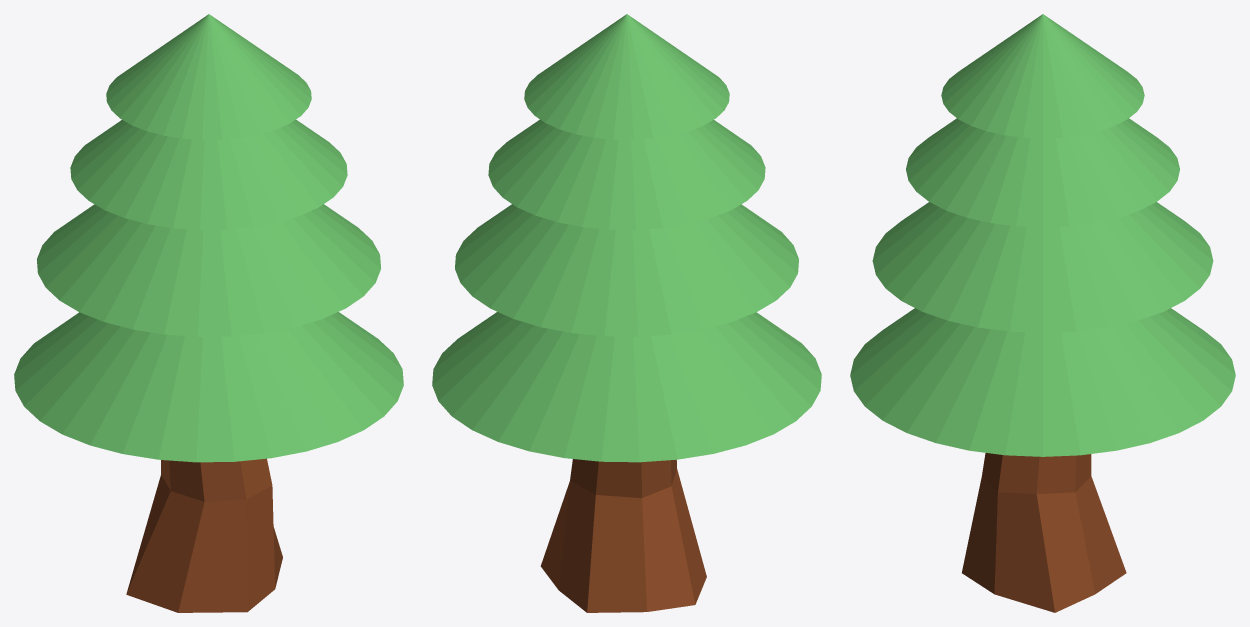
The model's file is Fir.glb.
3 views of the same model, side by side, from view 1: azimuth 30°, elevation 25°; view 2: azimuth 150°, elevation 25°; view 3: azimuth 270°, elevation 25° (orthographic).
Parts seen in each view (by area): view 1: Cylinder; view 2: Cylinder; view 3: Cylinder.
Boxes of the visible parts, x1,y1,x2,y2 form: Cylinder: (14,14,403,612); Cylinder: (432,14,821,612); Cylinder: (850,14,1235,612).
Size of the model in its own units: 0.0636 by 0.102 by 0.0636.
